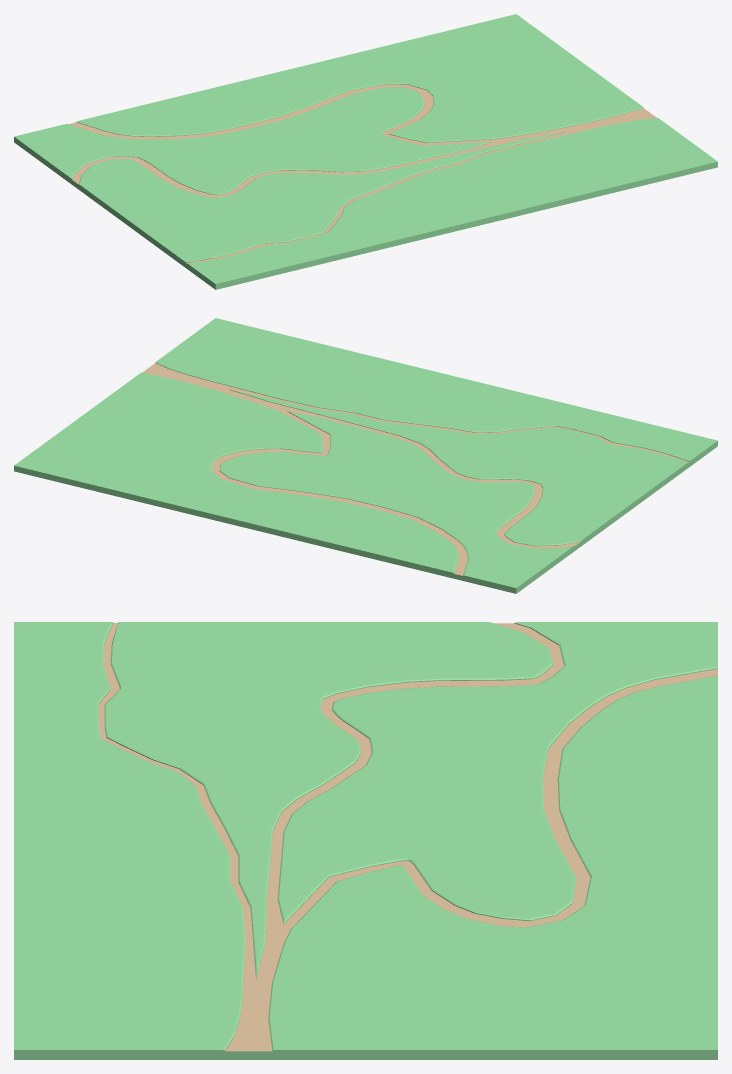
File: newMapNoLoops.fbx
The picture shows the model from 3 angles, top to bottom: view 1: azimuth 30°, elevation 25°; view 2: azimuth 150°, elevation 25°; view 3: azimuth 270°, elevation 25°; orthographic projection. The views are drawn at different scales.
Parts seen in each view (by area): view 1: Surroundings, Path; view 2: Surroundings, Path; view 3: Surroundings, Path.
Part boxes in pixels (x1=…): Surroundings: x1=14, y1=14, x2=717, y2=289; Path: x1=68, y1=84, x2=656, y2=263; Surroundings: x1=14, y1=318, x2=717, y2=593; Path: x1=142, y1=363, x2=688, y2=575; Surroundings: x1=14, y1=622, x2=717, y2=1059; Path: x1=98, y1=623, x2=717, y2=1051.
Bounding box in the file's own units: 2862 × 31.47 × 1990.
